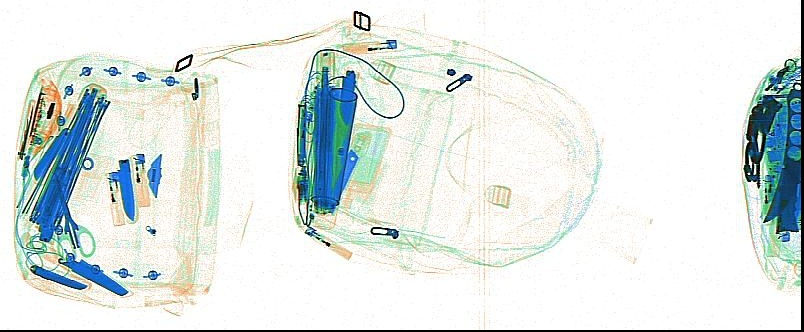handcuffs: (741, 93, 783, 189)
knife: (20, 230, 130, 297), (760, 79, 799, 224), (332, 129, 373, 201), (31, 125, 73, 181), (29, 263, 91, 293), (774, 165, 799, 234), (116, 156, 139, 225), (17, 99, 36, 161), (339, 68, 358, 127), (295, 101, 308, 169)
lighter: (304, 226, 353, 261), (129, 152, 152, 209), (104, 170, 126, 227), (340, 38, 398, 56)
pressure: (310, 86, 358, 208)
scissors: (50, 167, 97, 261)
